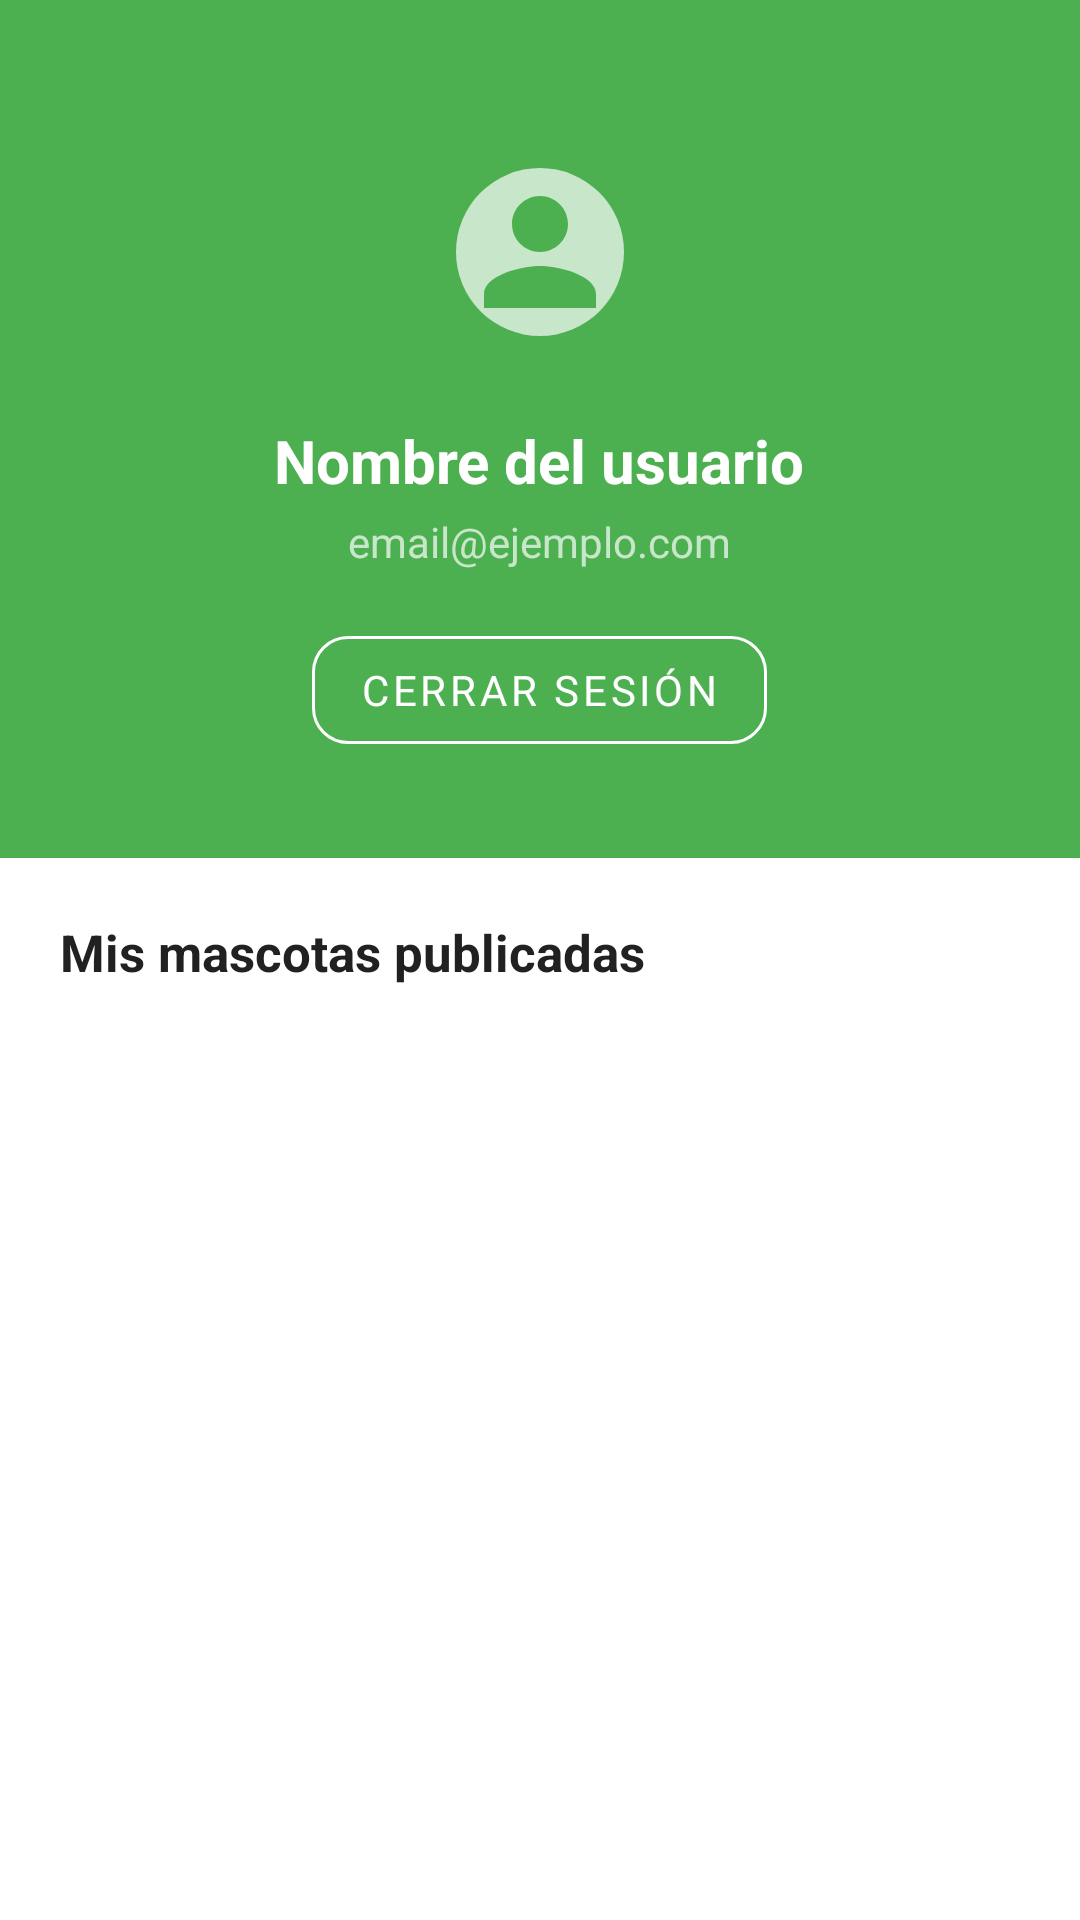

Where to tap for icons on this 1080px×1920px app screen, as (x=x, y=y):
Foto de perfil: (x=540, y=252)
